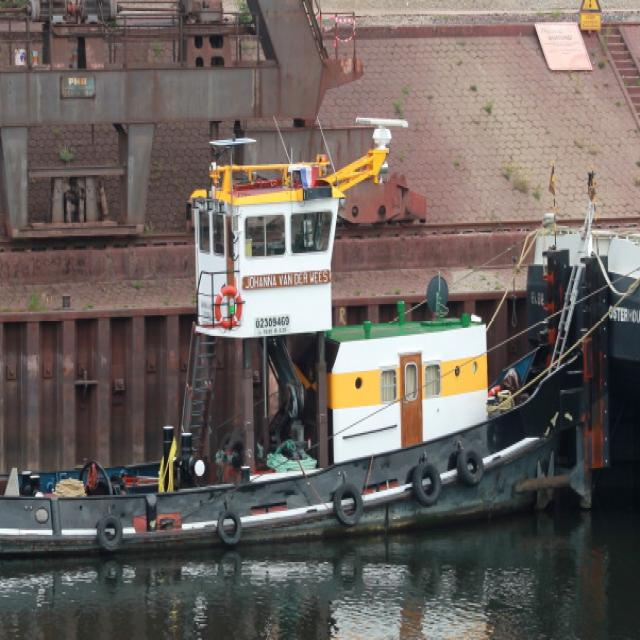tugboat: (1, 110, 615, 588)
